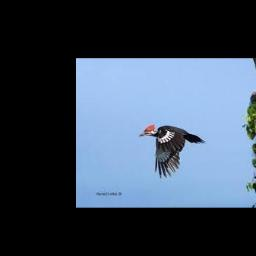Woodpecker: (139, 124, 206, 178)
